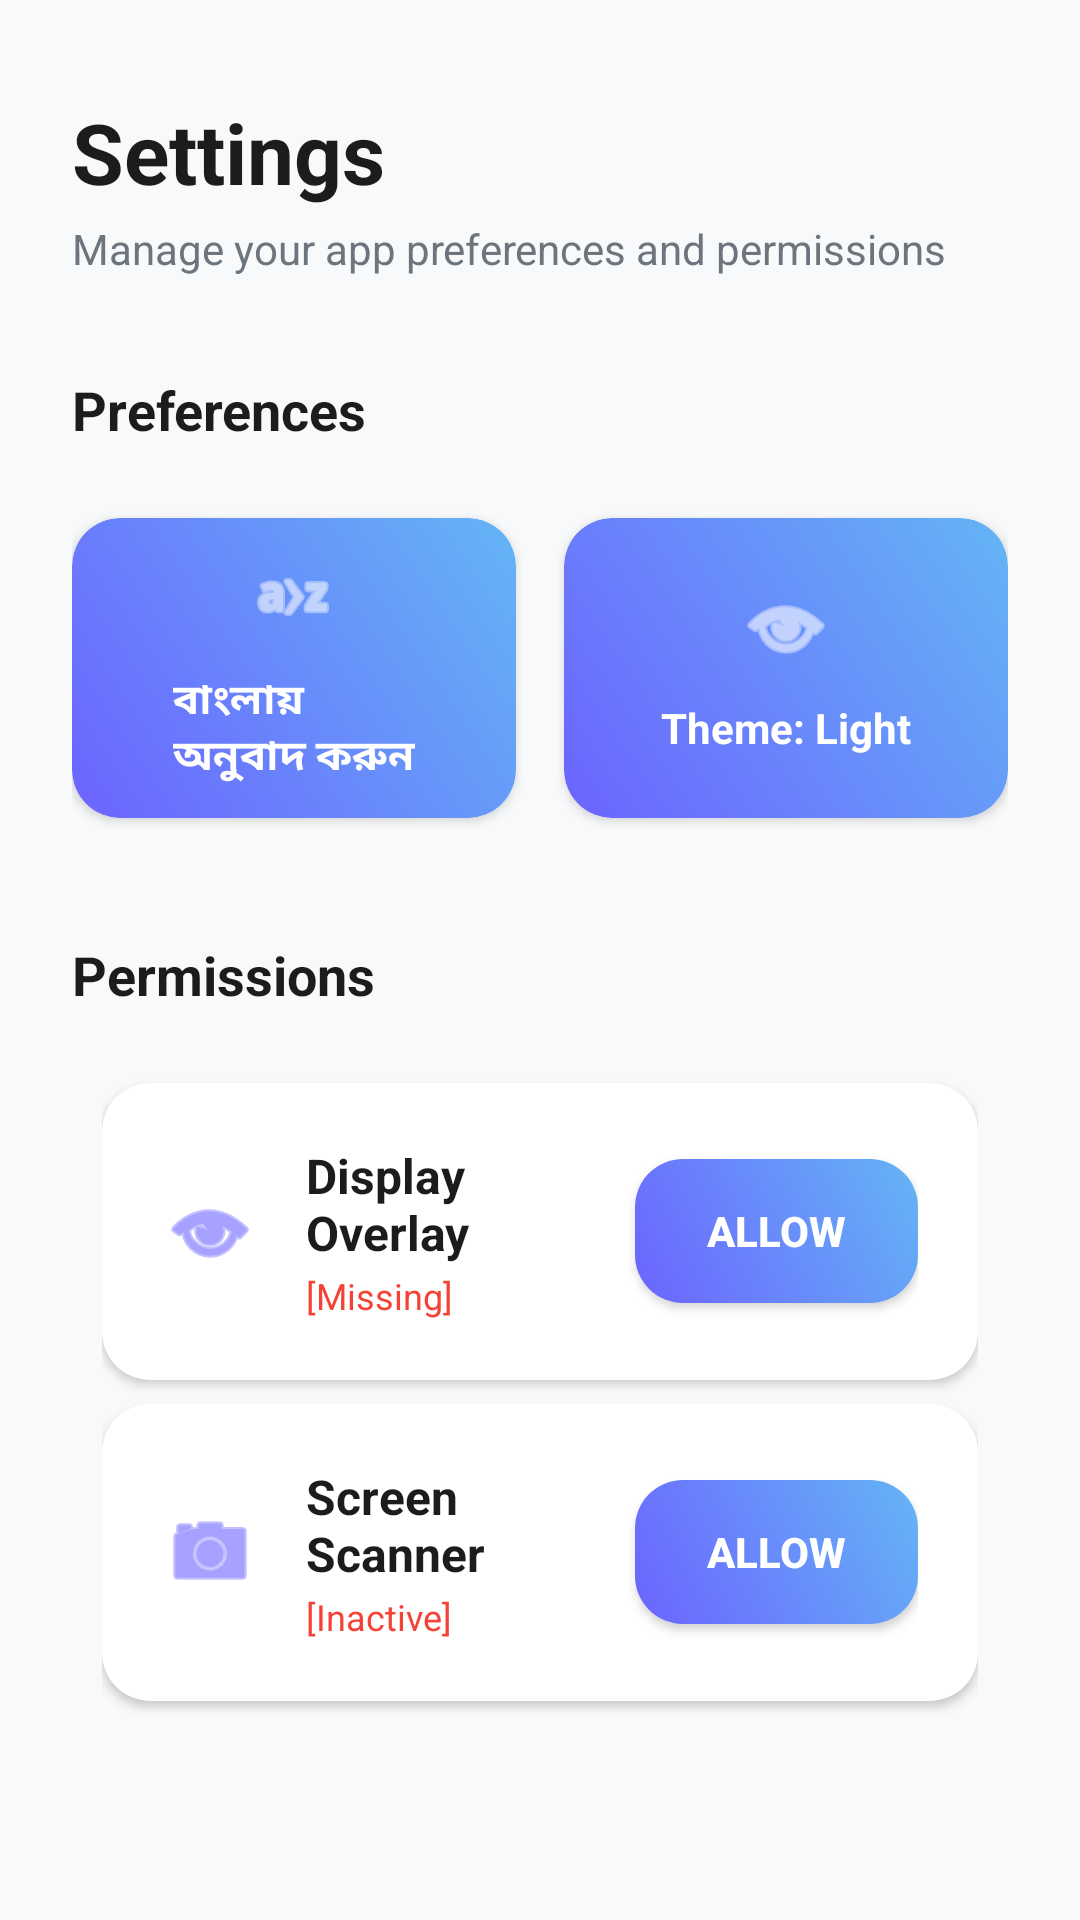

Screen size 1080 × 1920. Icon name, then its box in pixels as (x1, y1, x2, y2):
camera: (173, 1521, 247, 1580)
sort alphabetically: (257, 578, 329, 616)
view: (747, 605, 825, 654), (171, 1209, 249, 1258)
